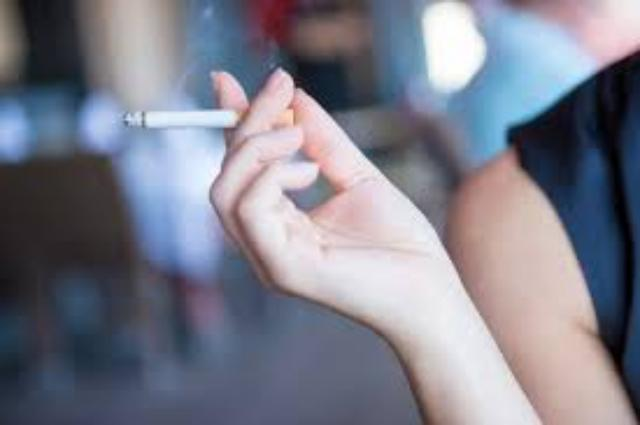Smoking: (124, 110, 294, 128)
